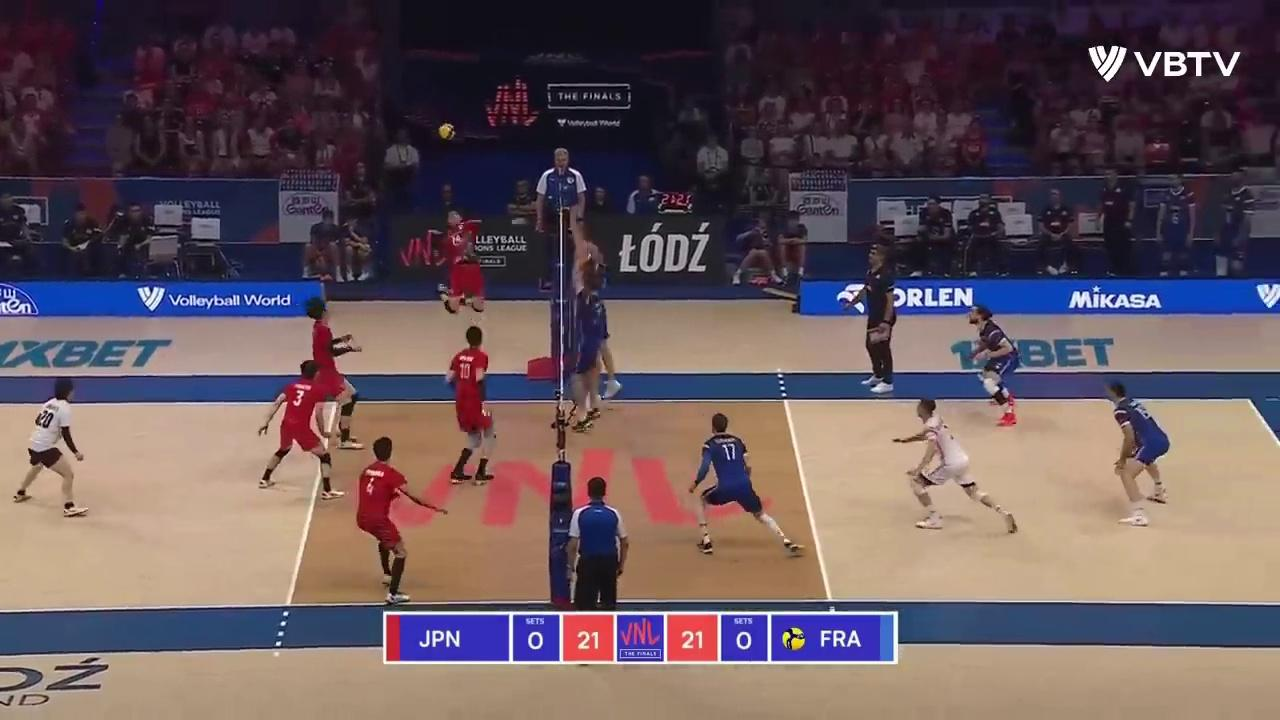ball: (440, 122, 455, 140)
